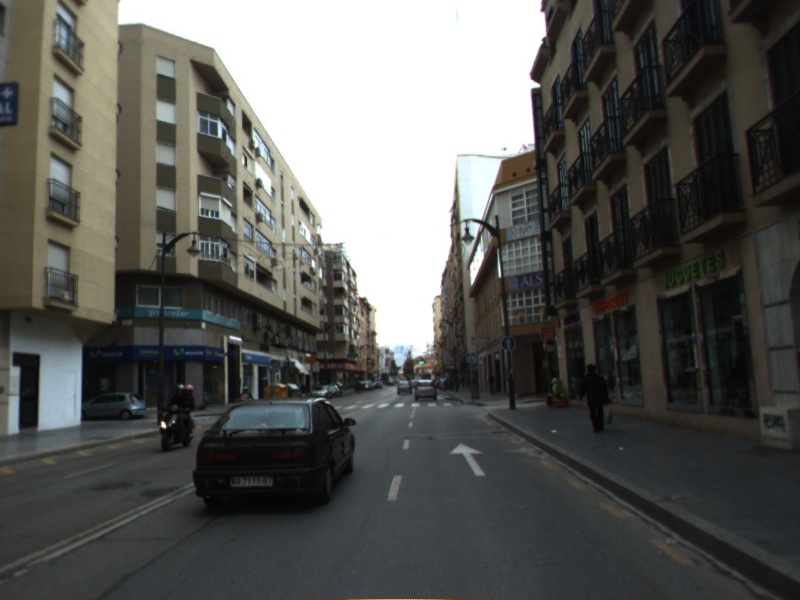STRAIGHT: (448, 441, 488, 478)
